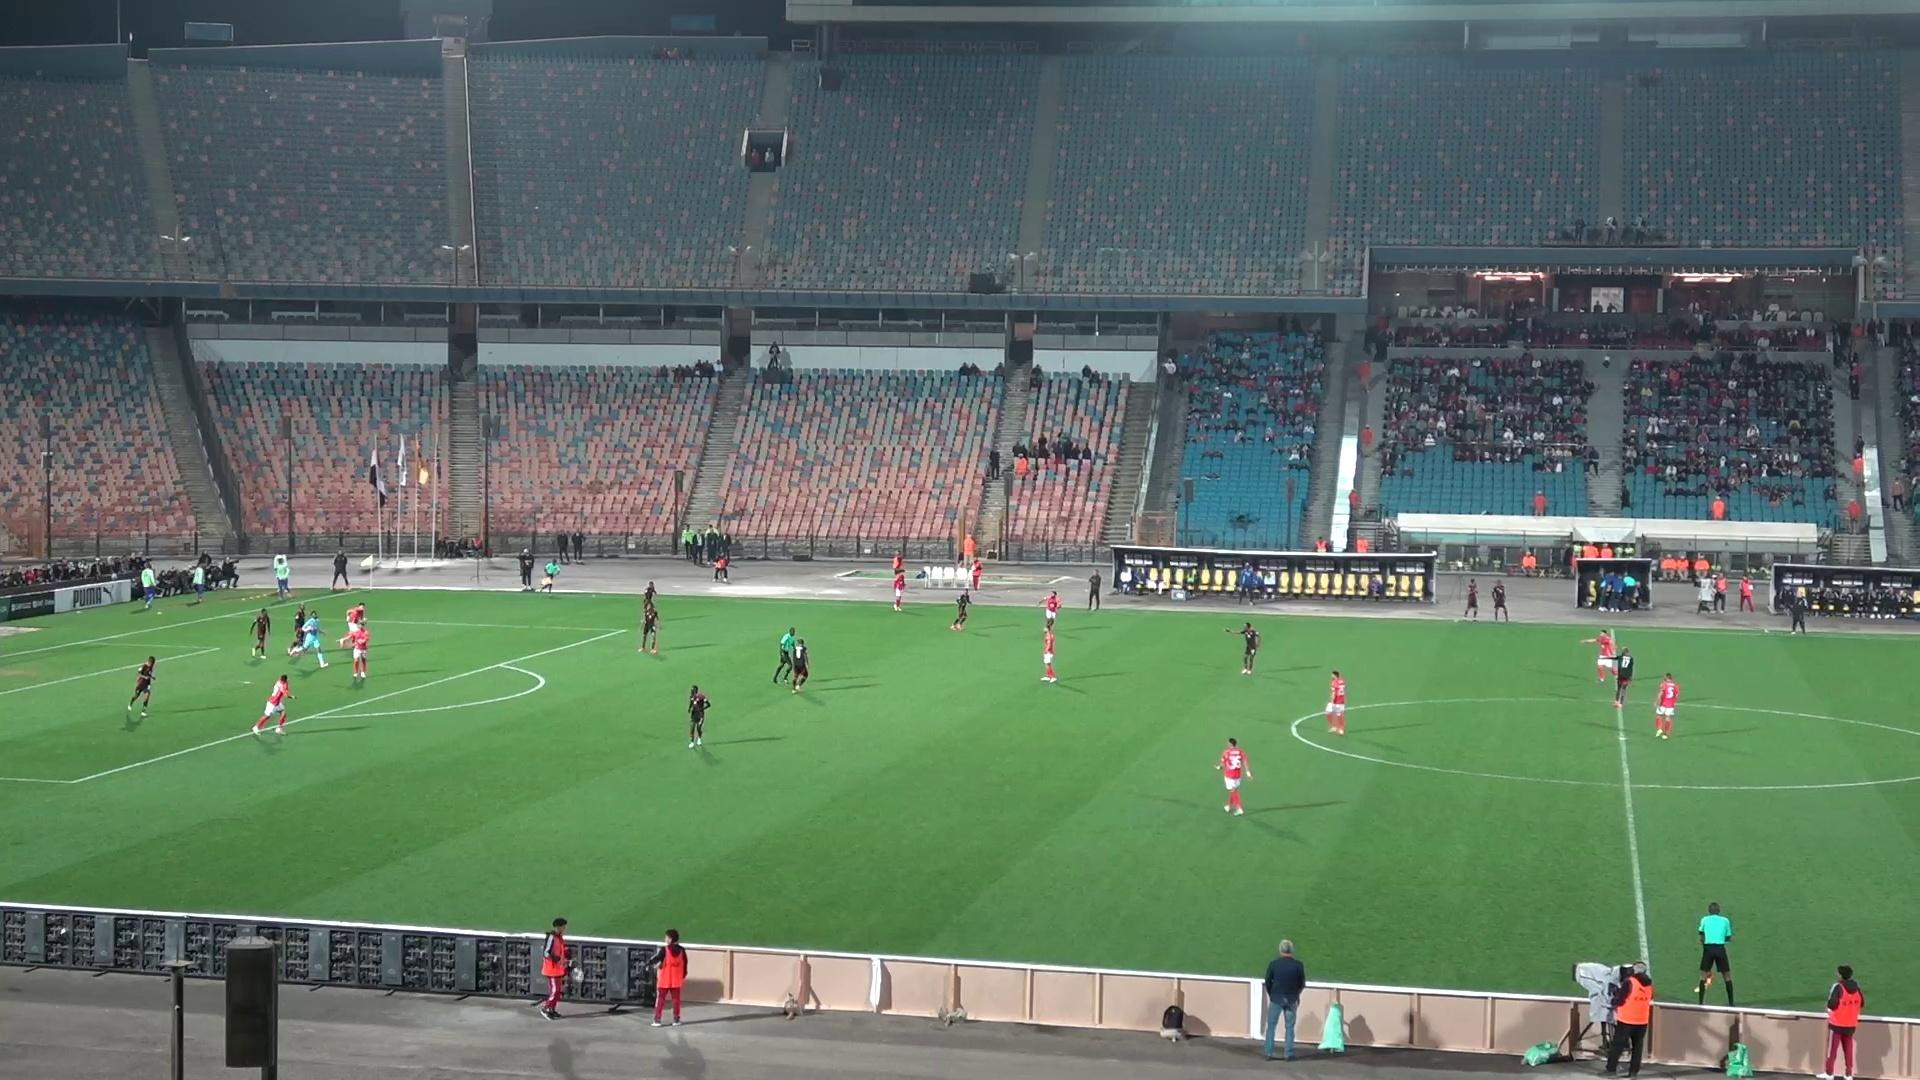GK2: (299, 612, 326, 669)
Refree: (1695, 902, 1734, 1004), (771, 628, 796, 683), (535, 558, 560, 592)
Team1: (1216, 737, 1251, 815), (1581, 630, 1631, 682), (251, 675, 291, 735), (338, 622, 371, 680), (1317, 671, 1346, 735), (1652, 673, 1680, 738), (339, 603, 371, 645), (1038, 589, 1063, 633), (1040, 620, 1058, 680), (891, 568, 906, 611)
Team2: (125, 655, 157, 727), (1225, 621, 1261, 674), (686, 684, 711, 748), (1611, 647, 1634, 704), (789, 637, 810, 694), (638, 604, 662, 653), (287, 603, 309, 653), (251, 609, 270, 658), (949, 592, 973, 630), (641, 582, 657, 611)
